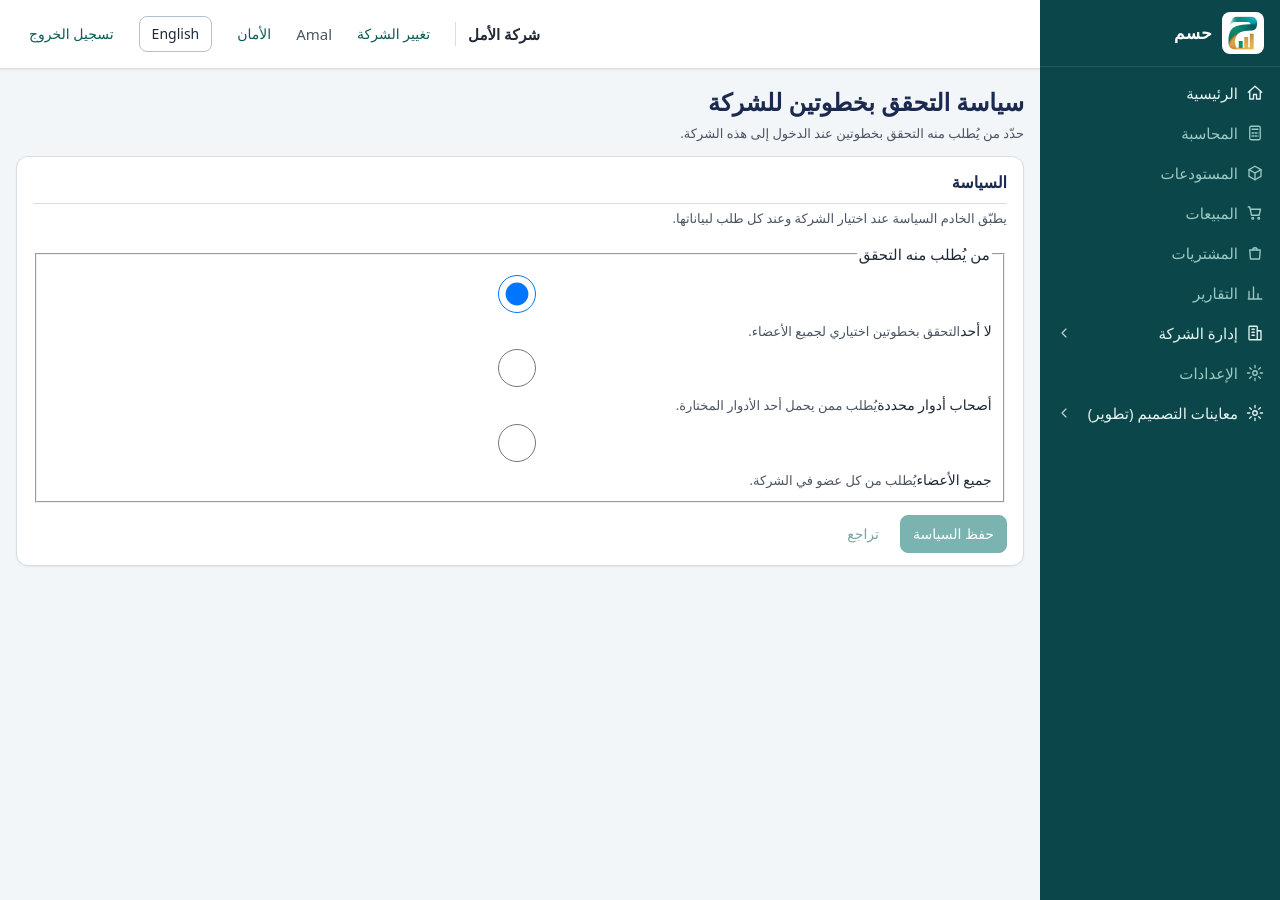
Test: company MFA policy screen › unknown_role is shown as its own message and the session stays
Expected: the element with test id "company-name" is shown, [455, 22, 540, 46]
Expected: the heading "سياسة التحقق بخطوتين للشركة" is shown, [680, 85, 1024, 119]
Click the 3rd radio button. click: (517, 443)
box: [45, 424, 989, 462]
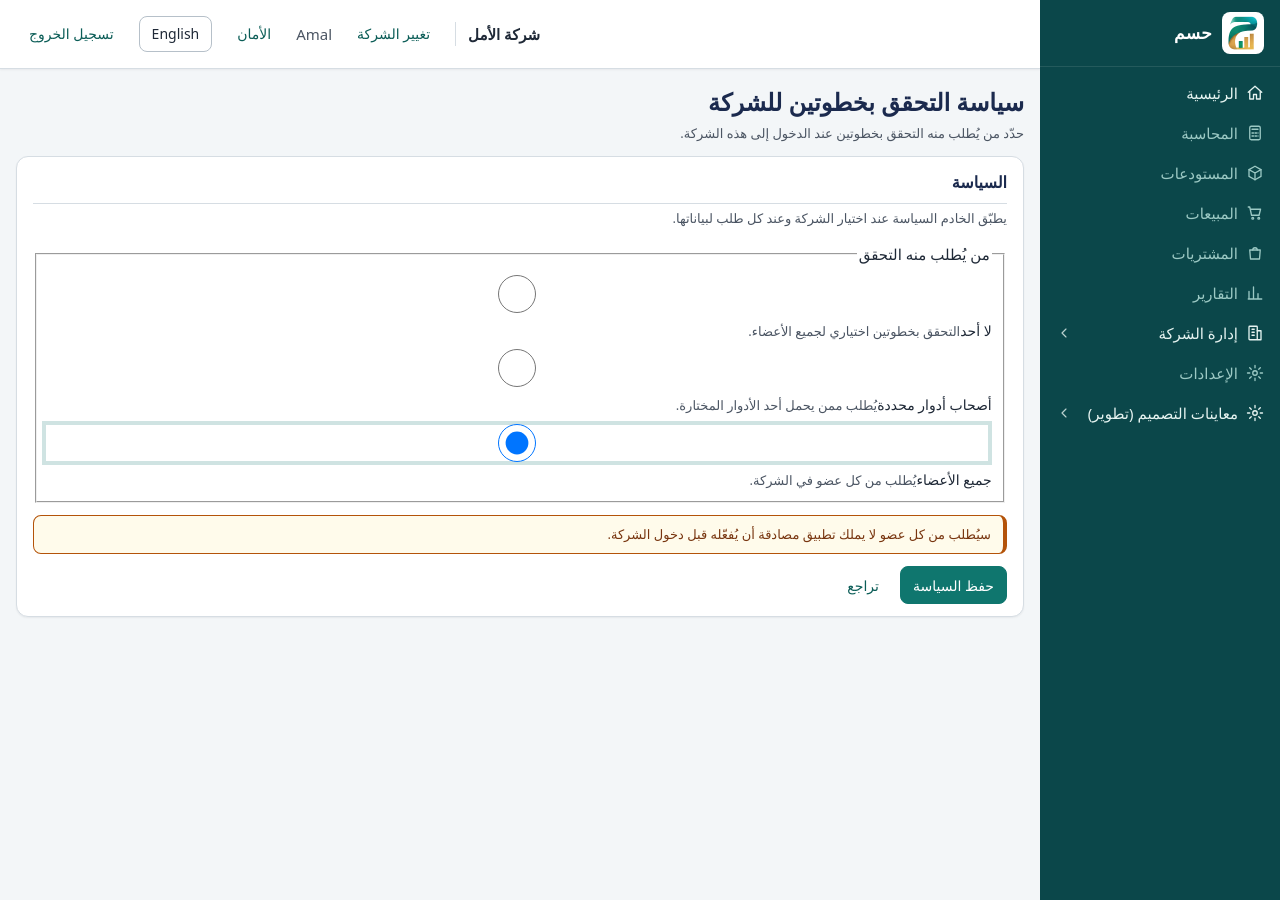
Click the button with test id "mfapolicy-save". click: (954, 585)
box: [900, 566, 1007, 604]
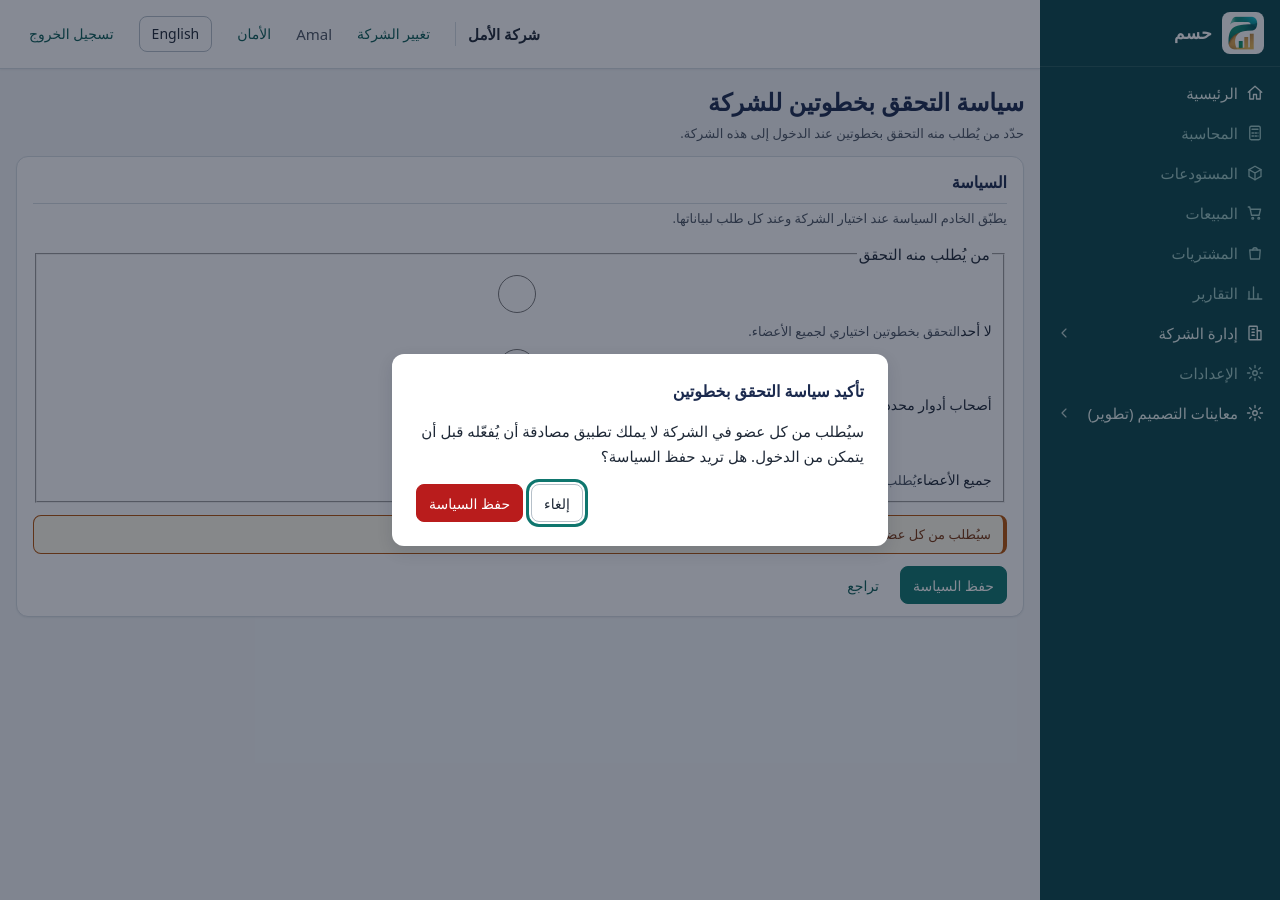
Click the button "حفظ السياسة". click: (470, 503)
box: [416, 484, 523, 522]
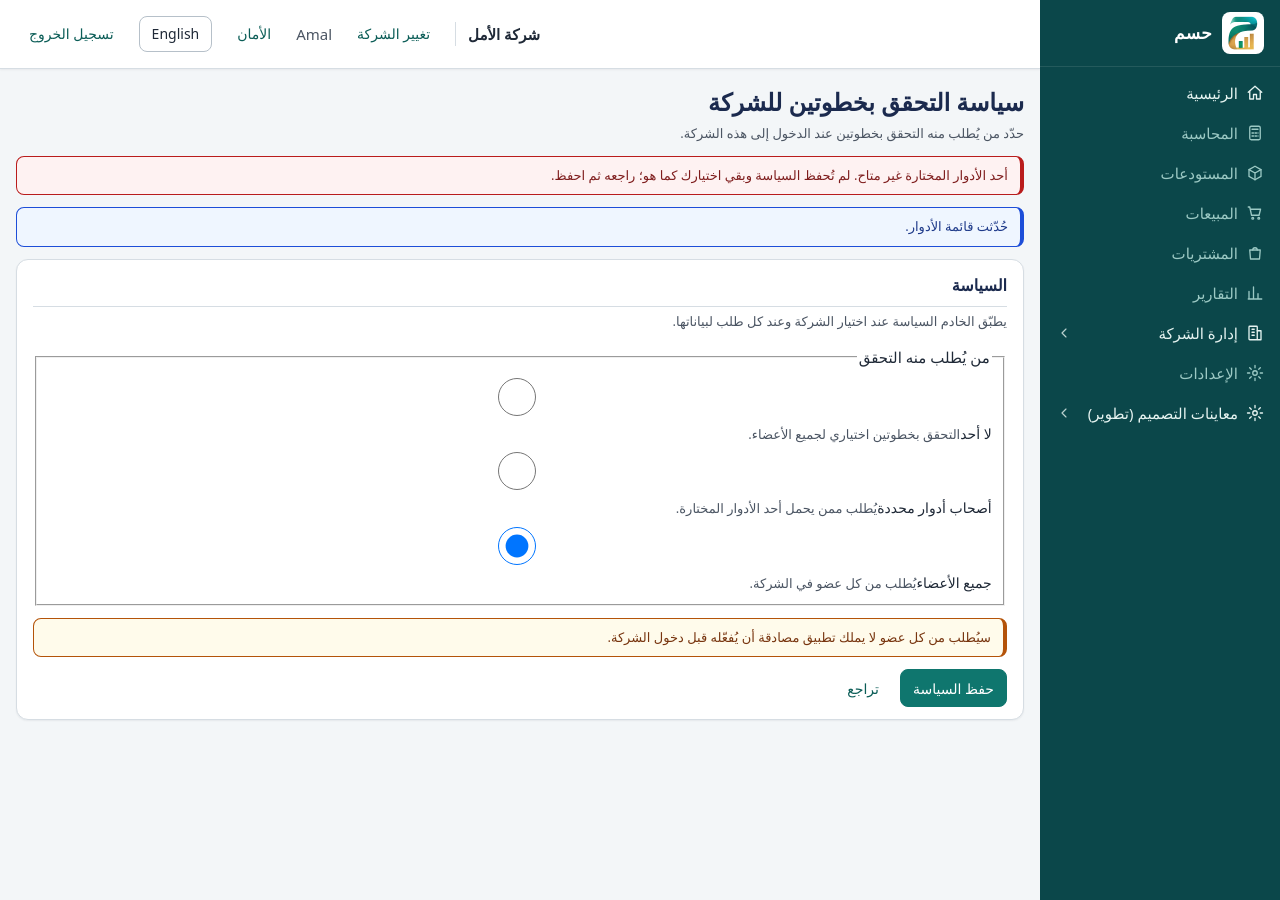
Result: the message with test id "mfapolicy-error" shows "أحد الأدوار المختارة غير متاح. لم تُحفظ السياسة وبقي اختيارك كما هو؛ راجعه ثم احفظ." at [551, 166, 1008, 184]
